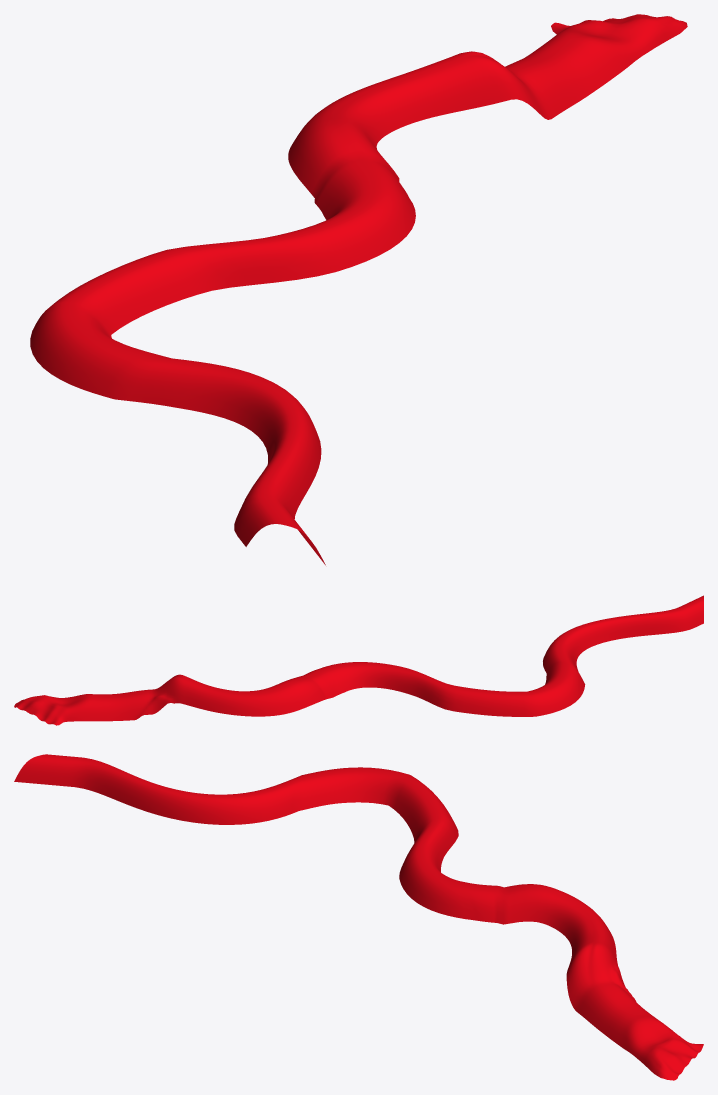
The model's file is River2.fbx.
3 renders of one model, top to bottom at view 1: azimuth 30°, elevation 25°; view 2: azimuth 150°, elevation 25°; view 3: azimuth 270°, elevation 25°, orthographic. The views are drawn at different scales.
Visible parts, largest first — view 1: River2_LOD0; view 2: River2_LOD0; view 3: River2_LOD0.
Boxes of the visible parts, x1,y1,x2,y2 form: River2_LOD0: (30,14,687,565); River2_LOD0: (14,595,703,725); River2_LOD0: (14,754,703,1080).
Size of what is drawn, in the model's own units: 10096 by 856 by 10325.
